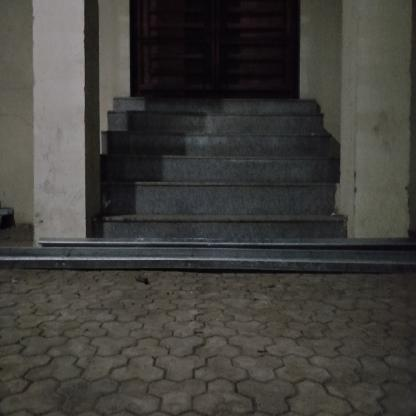stairs: (108, 99, 319, 235)
